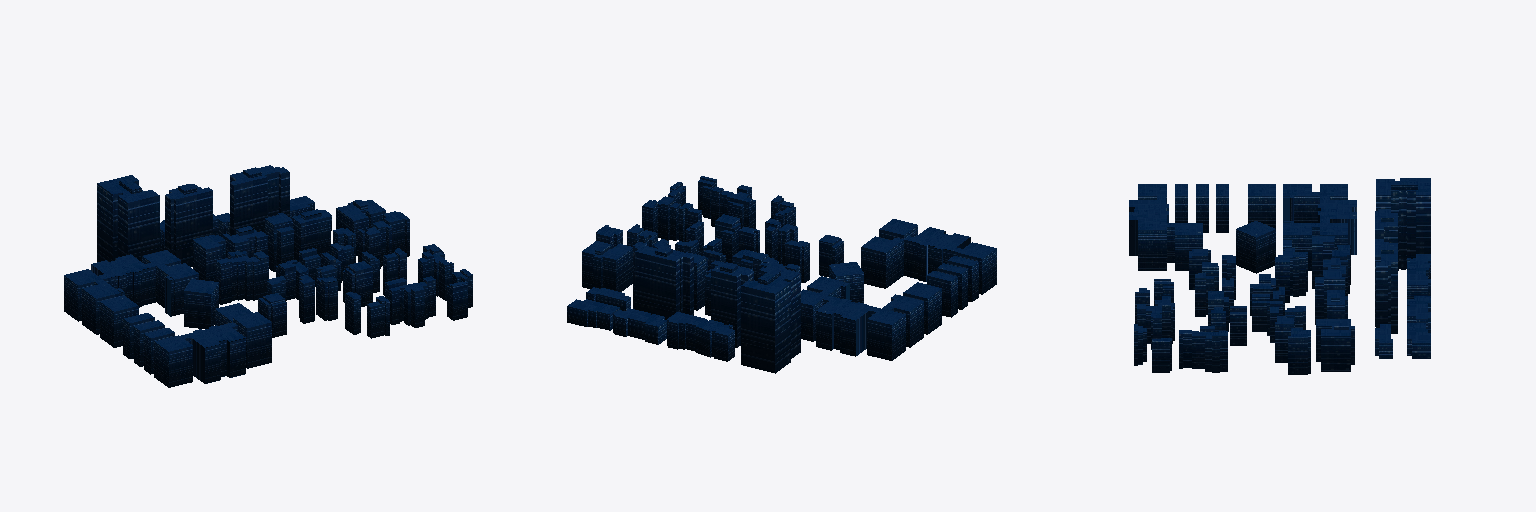
3 views of the same model, side by side, from view 1: azimuth 30°, elevation 25°; view 2: azimuth 150°, elevation 25°; view 3: azimuth 270°, elevation 25° (orthographic).
Visible parts, largest first — view 1: ����011, Box011, ����013, ����012; view 2: ����011, Box011, ����013, ����012; view 3: ����011, ����012, ����013, Box011.
Part boxes in pixels (left/top/right/bottom): ����011: left=97, top=165, right=472, bottom=338; Box011: left=78, top=261, right=271, bottom=387; ����013: left=64, top=250, right=270, bottom=351; ����012: left=64, top=256, right=246, bottom=387; ����011: left=567, top=176, right=843, bottom=373; Box011: left=801, top=229, right=981, bottom=360; ����013: left=801, top=219, right=995, bottom=324; ����012: left=813, top=225, right=996, bottom=360; ����011: left=1134, top=178, right=1430, bottom=374; ����012: left=1129, top=196, right=1356, bottom=272; ����013: left=1129, top=184, right=1356, bottom=237; Box011: left=1256, top=229, right=1275, bottom=273.
Size of the model in its own units: 714 by 181 by 593.
4 materials, 3 textured.